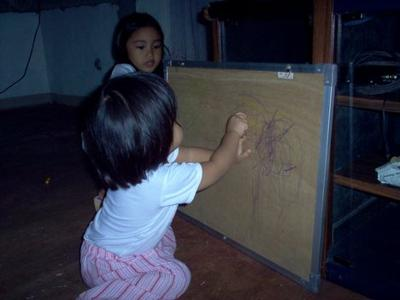person: (75, 73, 249, 299)
